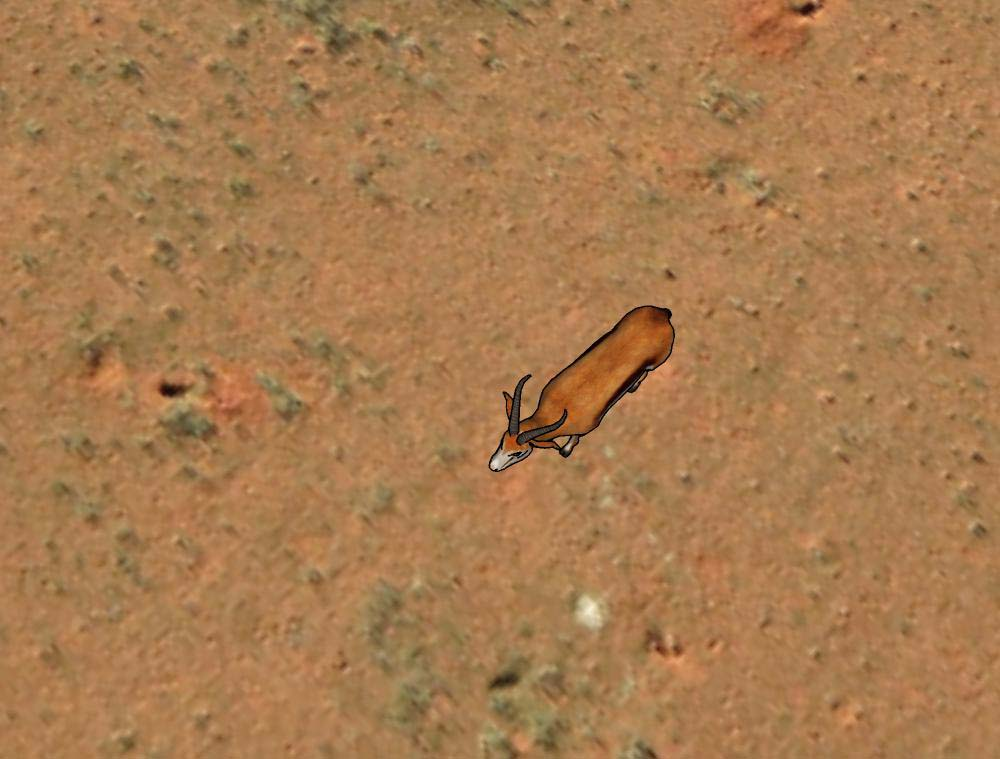springbok: (487, 300, 679, 478)
